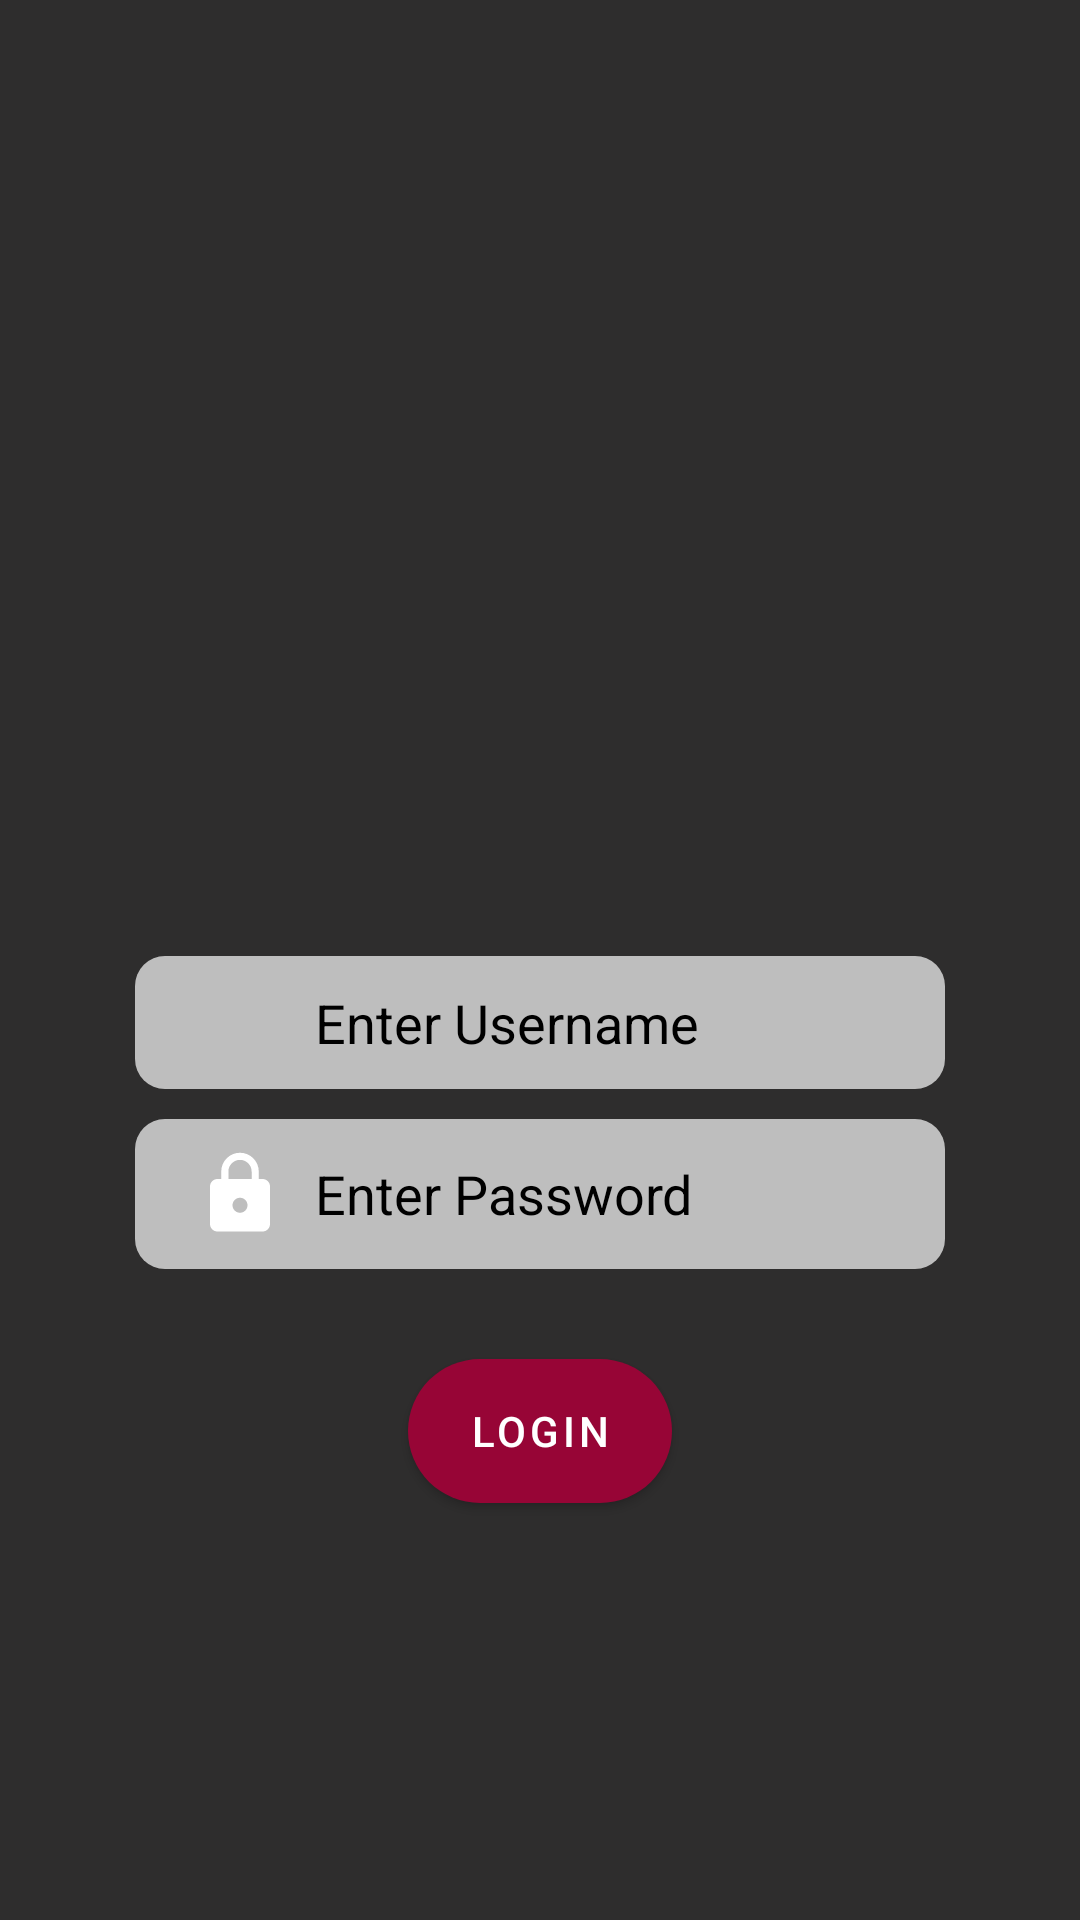

Named icons in this screenshot (1080px×1920px) and their centers, point (x, y):
lock: point (240, 1192)
